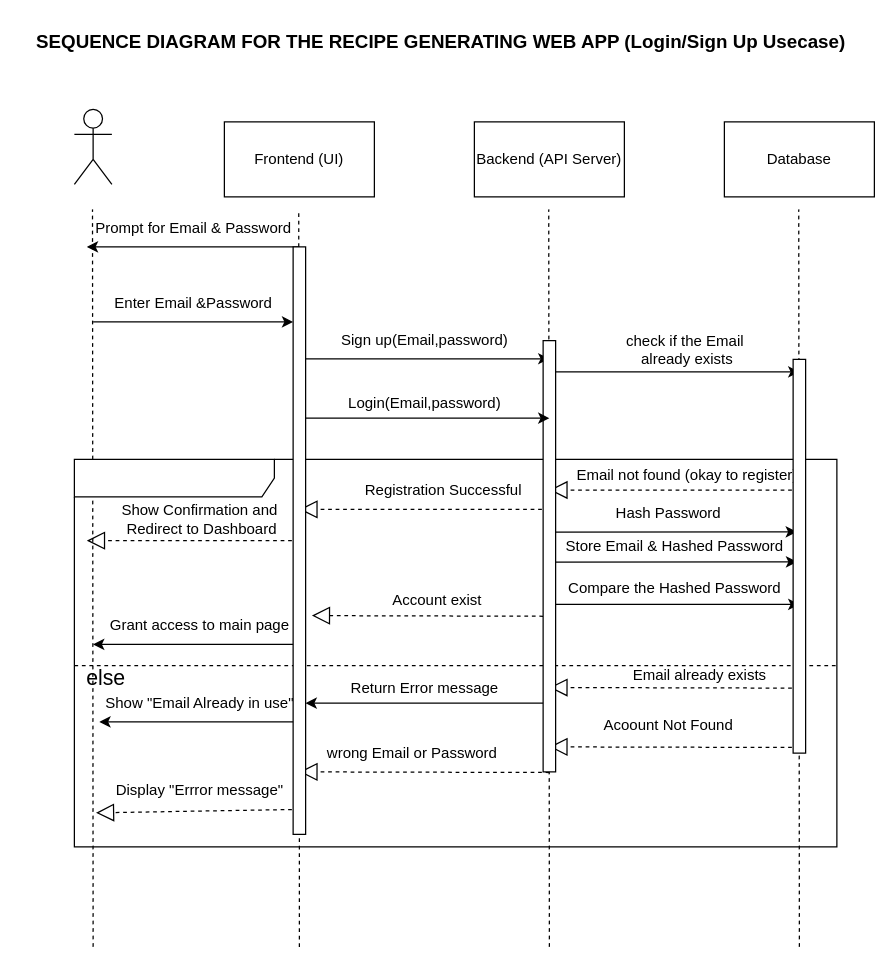
The diagram is 896 pixels wide and 970 high, and some of its shapes have lost their labels. The shapes that lost their labels are listed below. From the top down, each one's box as (x1, y1, x2, y2) in pixels, then its label:
(73, 108, 112, 184): Actor
(73, 458, 837, 847): If Email and password are correct
